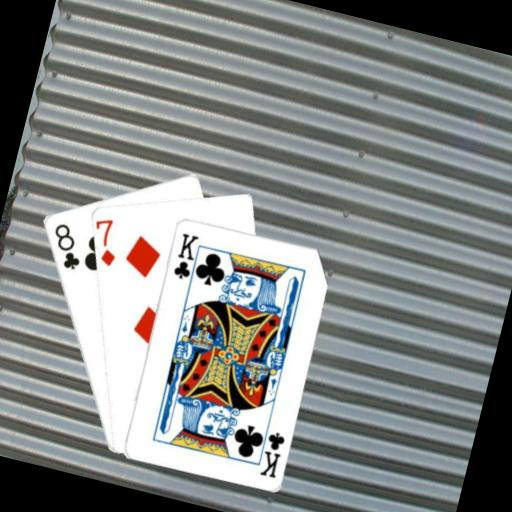7D: (85, 213, 126, 270)
8C: (42, 217, 90, 273)
KC: (250, 420, 289, 480), (168, 229, 205, 287)
